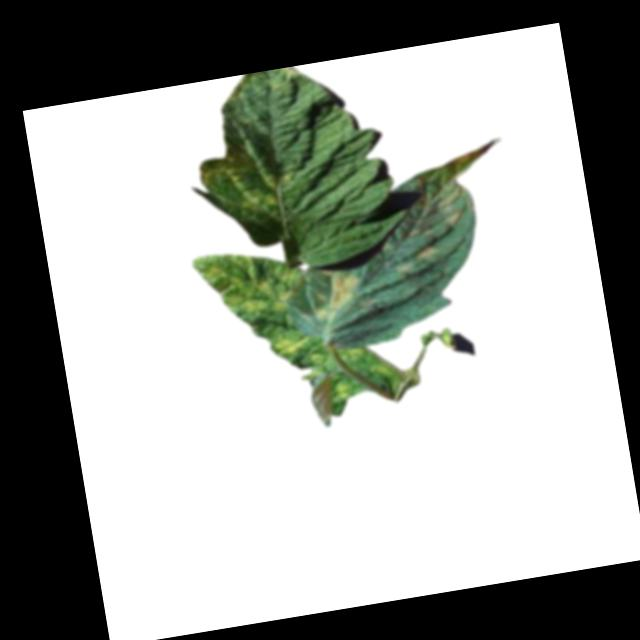Leaf_Mold: (369, 151, 498, 278), (190, 240, 296, 328), (191, 130, 286, 228), (307, 263, 368, 323), (271, 332, 308, 359)
